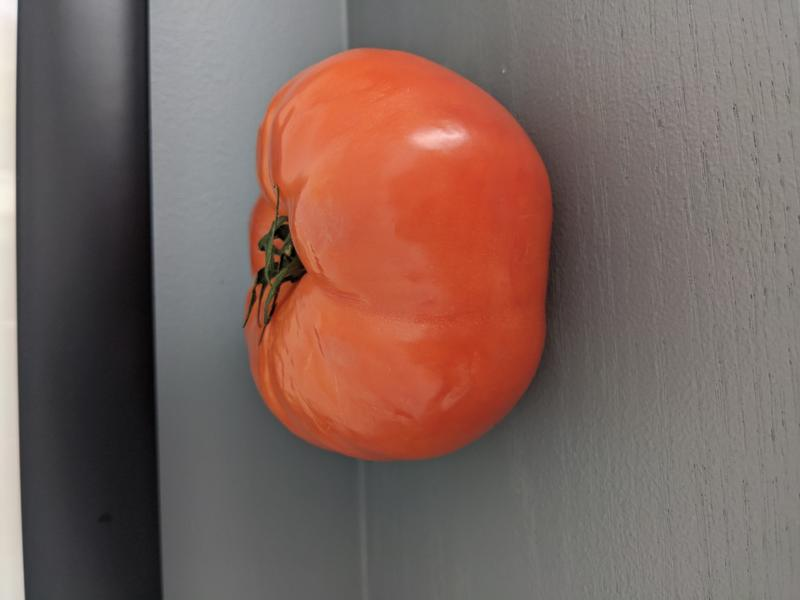tomato: (242, 46, 554, 461)
